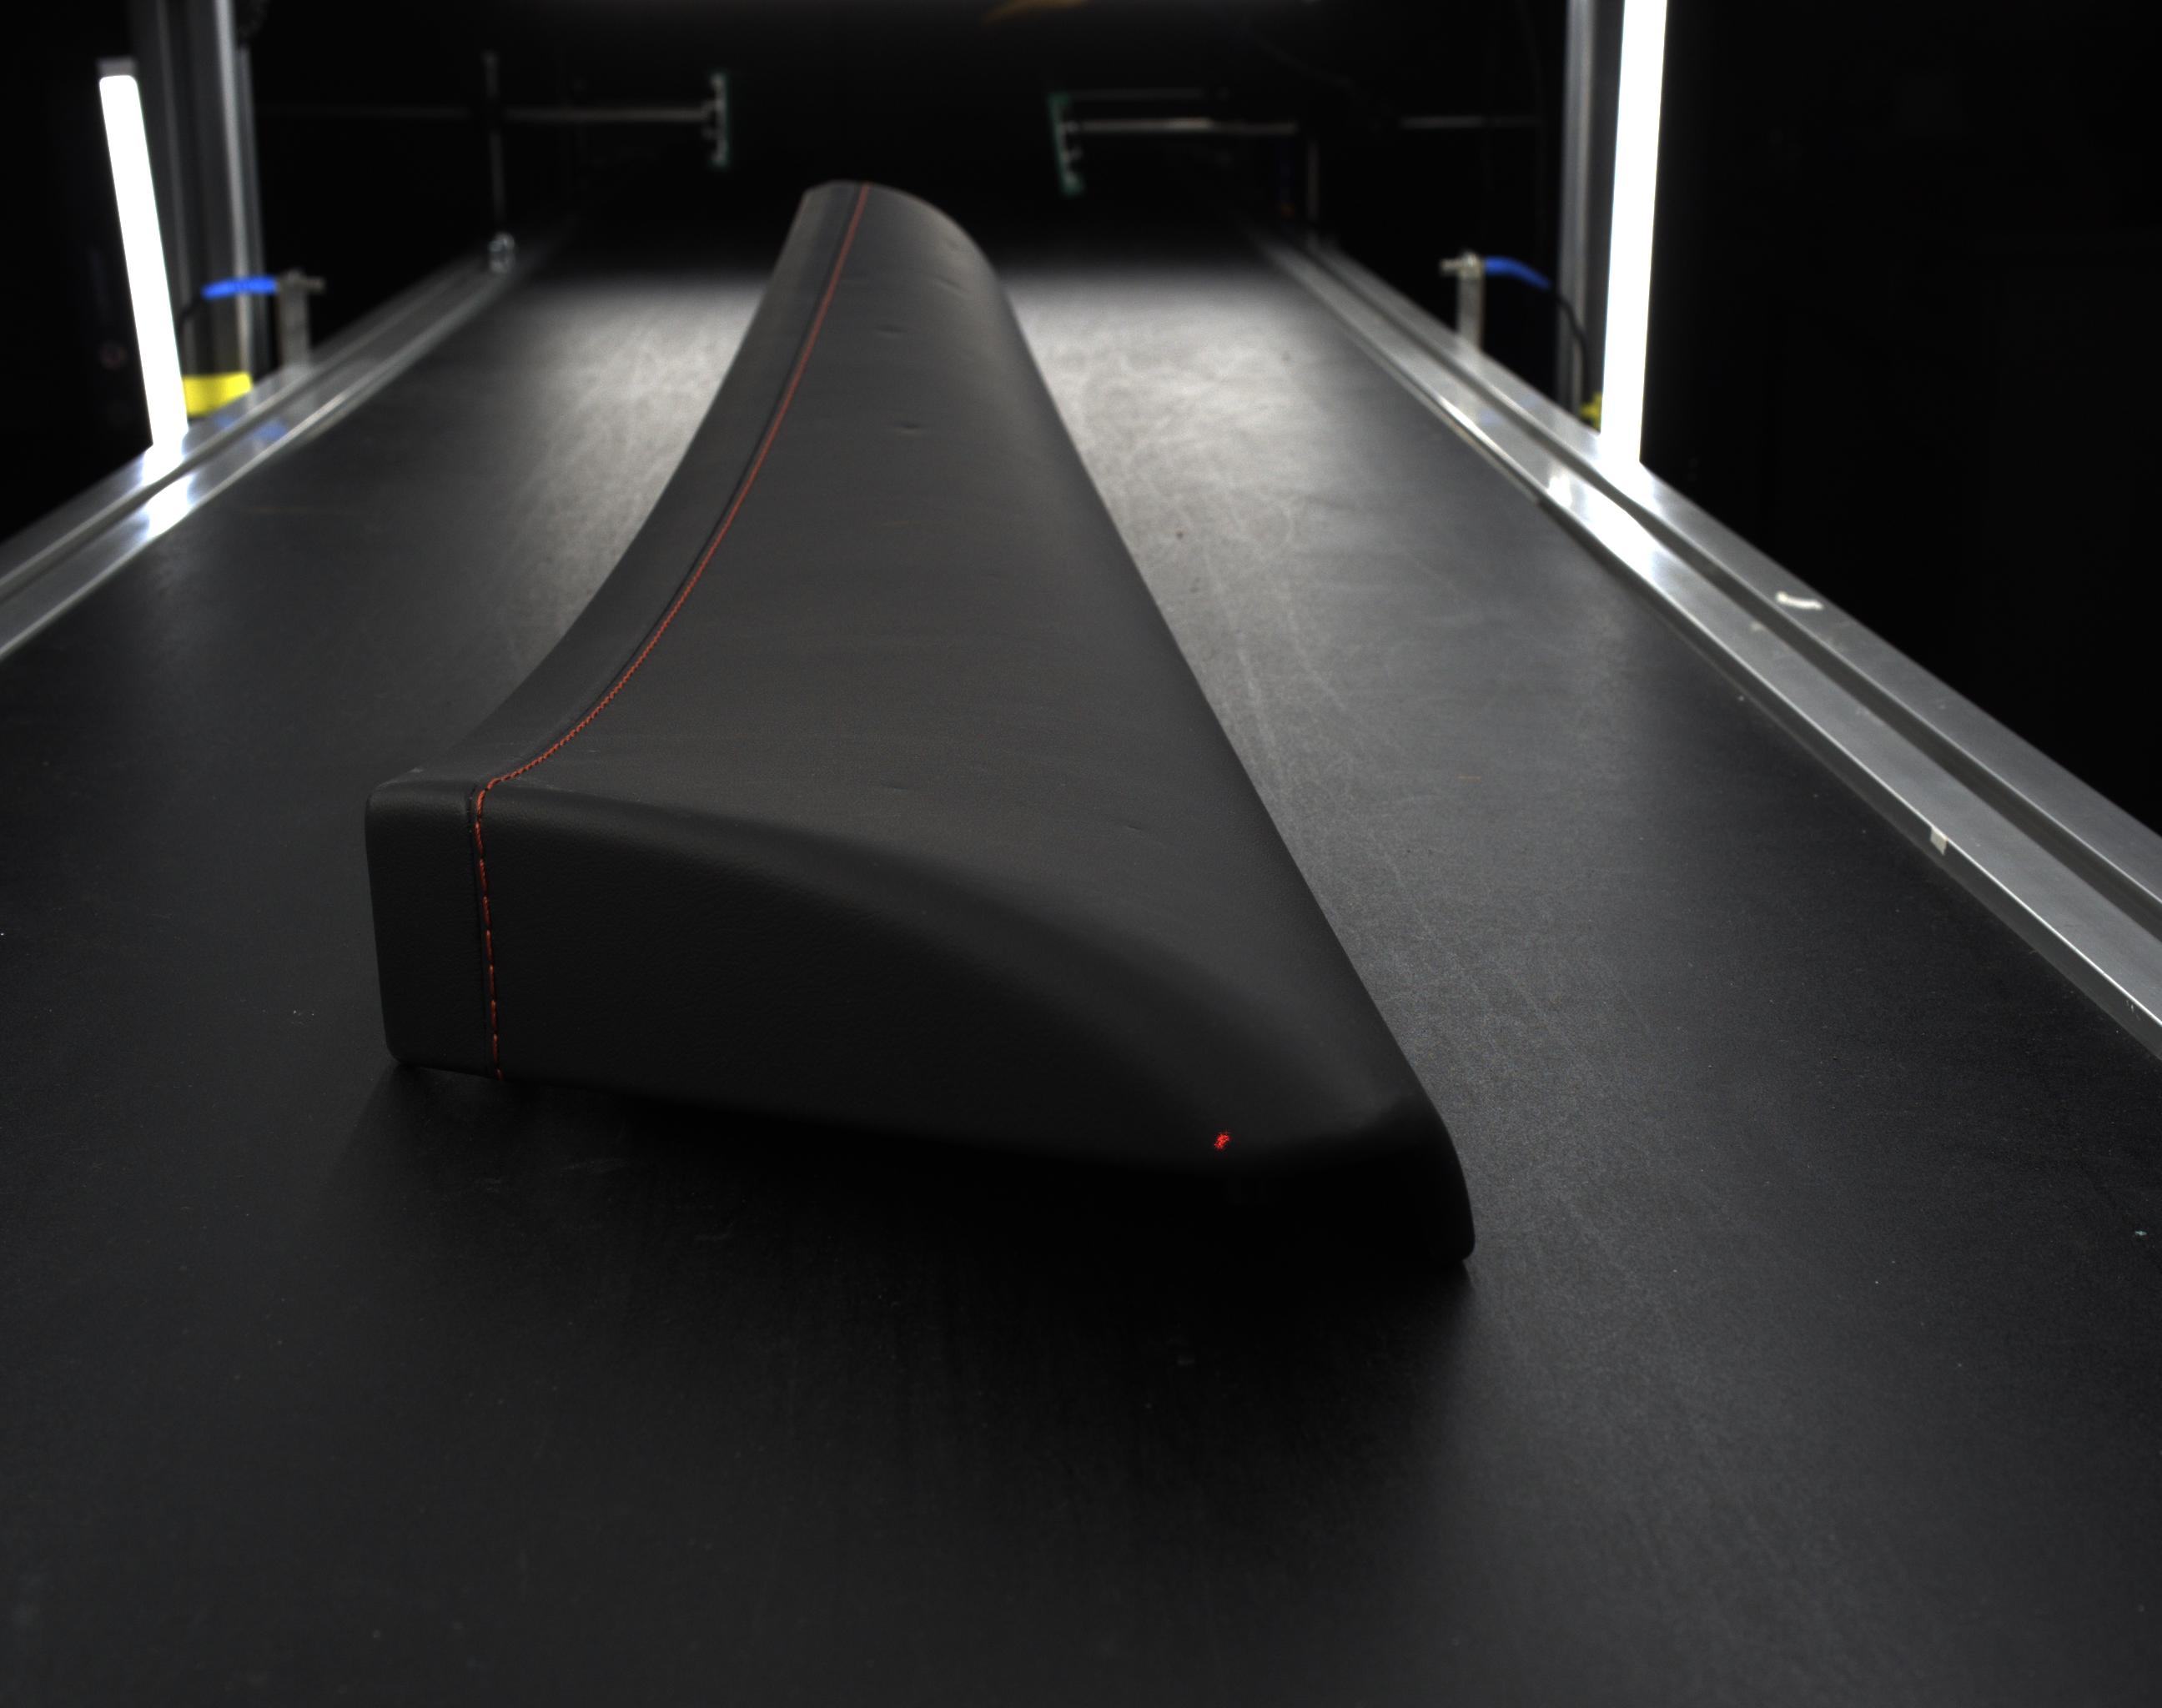vline: (476, 858, 490, 892), (472, 822, 484, 853), (486, 1001, 498, 1030), (483, 930, 495, 958), (486, 964, 495, 995), (481, 895, 490, 923), (490, 1032, 498, 1059)
